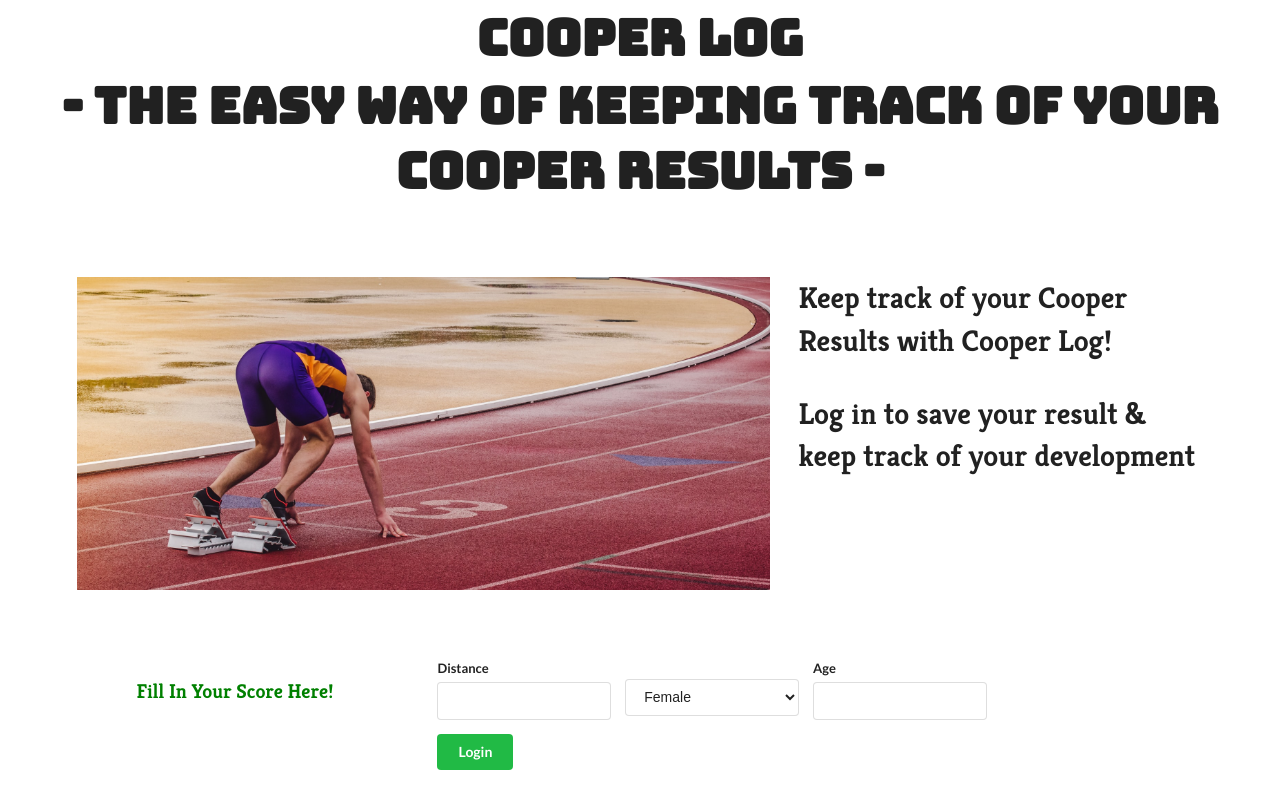
Test case: Cooper Client calculates succesfully › calculates cooper performance
The width and height of the screenshot is (1280, 800).
Type "1000" into the field with id "distance" at (524,701), box [437,682,611,720]
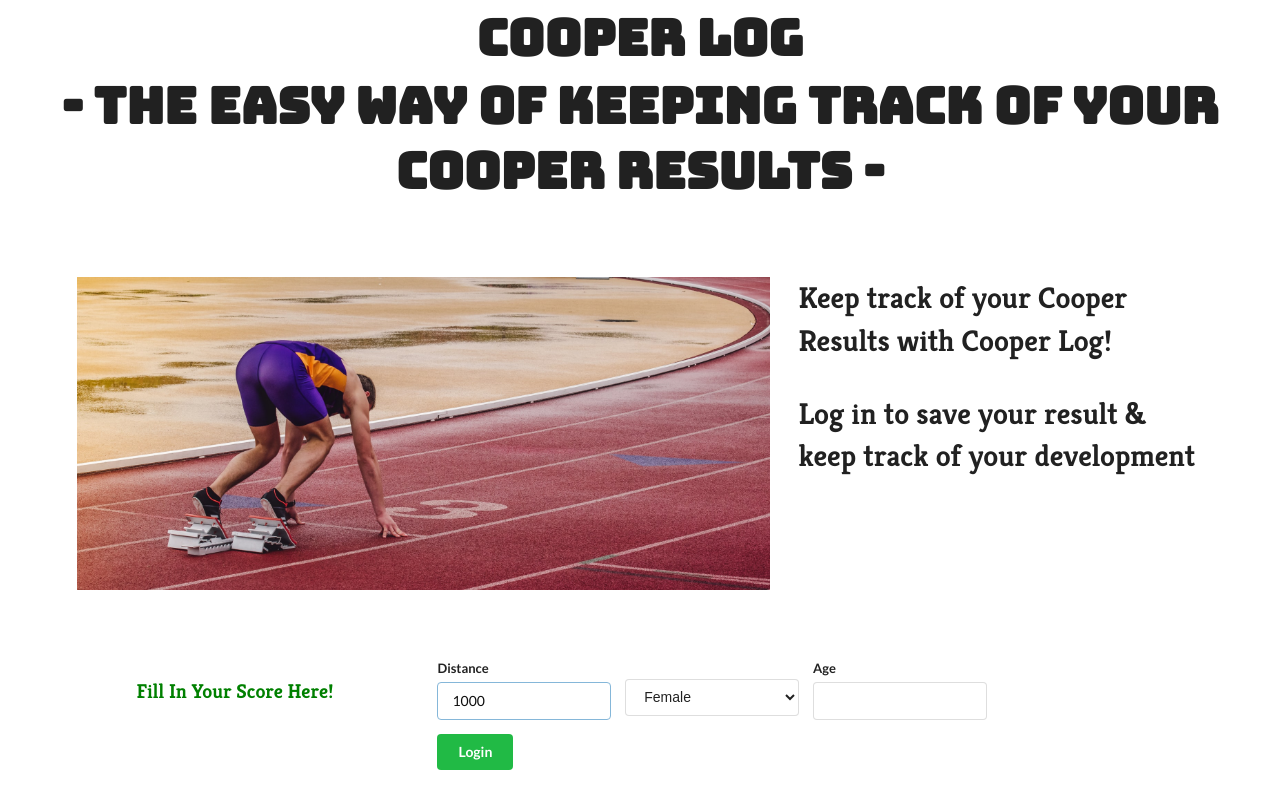
Select "Female" in the dropdown with id "gender" at (712,698), box [625,679,799,716]
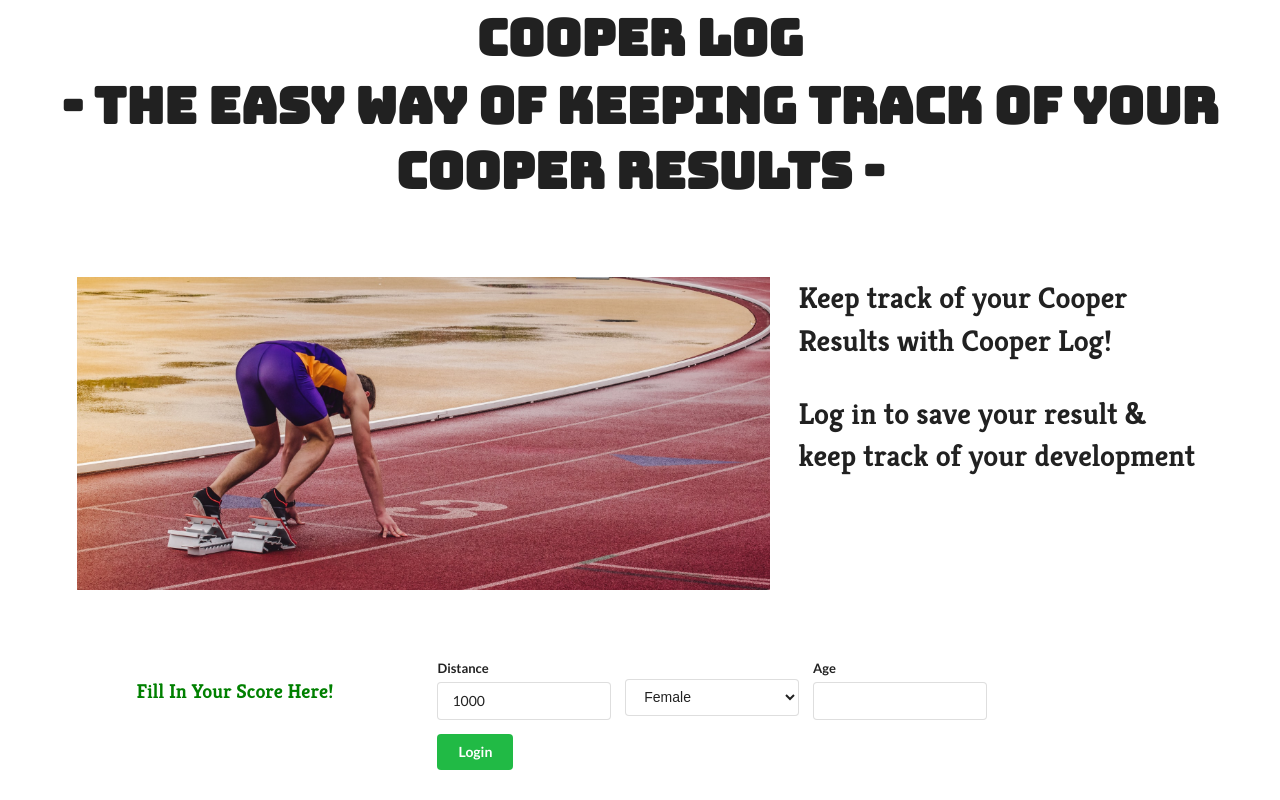
Type "23" into the field with id "age" at (900,701), box [813,682,987,720]
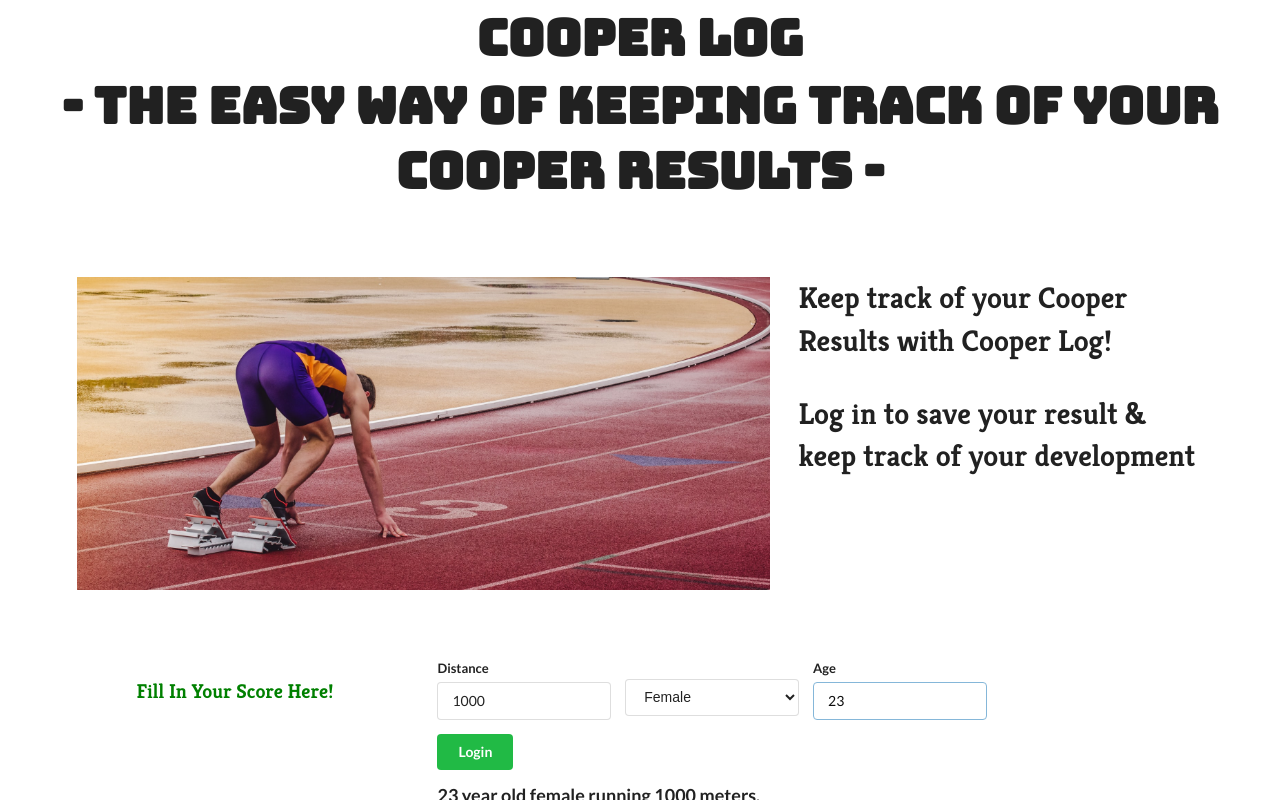
Expected: the heading with id "cooper-message" reads "23 year old female running 1000 meters.", [437,784,987,799]
